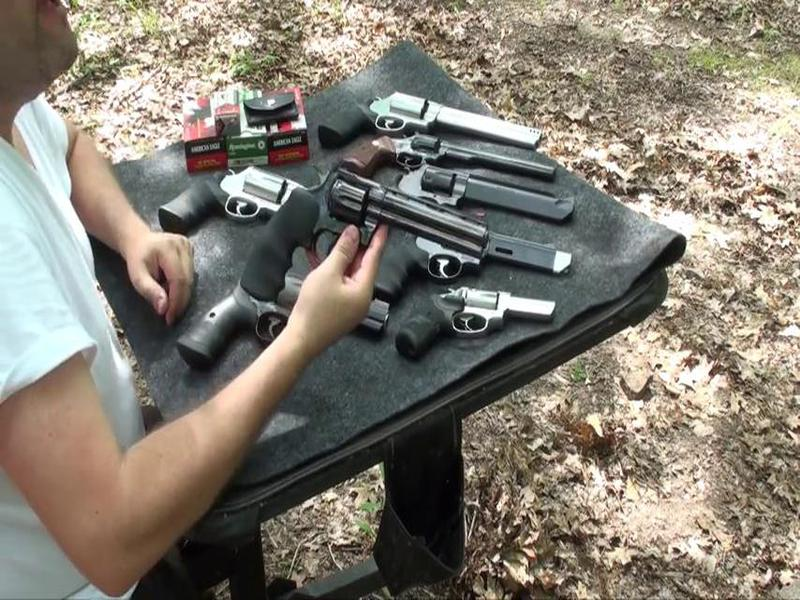Revolver: (219, 164, 497, 321)
